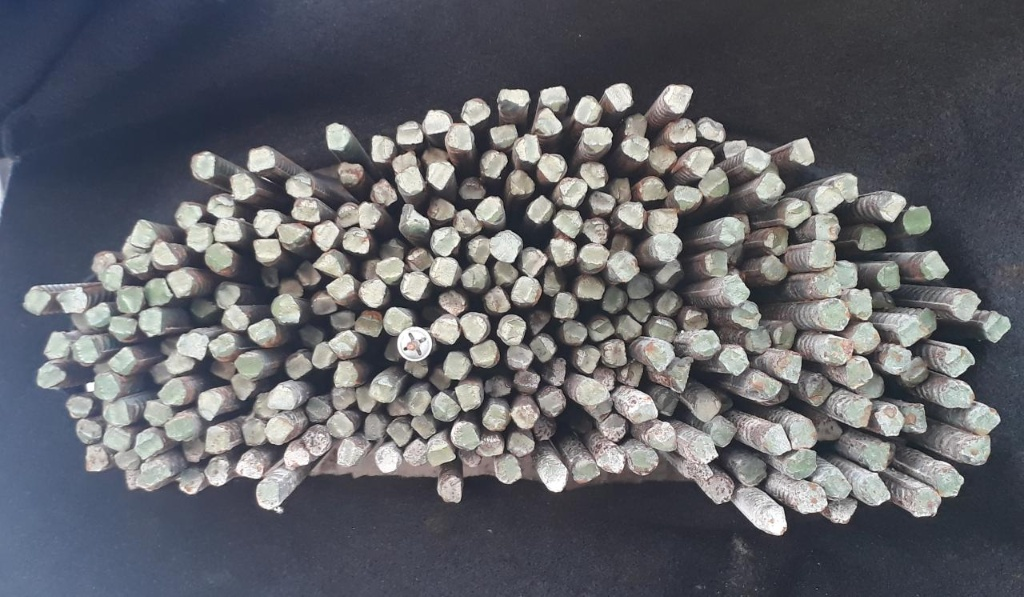dipstick: (608, 251, 641, 282), (491, 230, 522, 262), (663, 83, 694, 114), (823, 334, 854, 365), (819, 299, 850, 330), (496, 314, 526, 346), (667, 357, 695, 391), (204, 425, 234, 456), (511, 277, 542, 307), (577, 243, 609, 272), (581, 127, 613, 156), (851, 322, 880, 354), (383, 307, 413, 337), (460, 313, 490, 343), (400, 203, 430, 233), (572, 96, 602, 126), (431, 226, 460, 257), (786, 450, 817, 479), (876, 405, 905, 436), (971, 405, 1000, 436), (166, 414, 199, 441), (628, 394, 658, 423), (652, 233, 683, 261), (760, 505, 788, 536), (271, 294, 300, 323), (538, 388, 567, 417), (395, 166, 424, 195), (798, 483, 827, 512), (945, 347, 974, 376), (451, 421, 479, 451), (430, 258, 460, 286), (606, 82, 634, 112), (684, 147, 714, 175), (720, 346, 748, 376), (738, 457, 766, 487), (731, 302, 761, 330), (784, 198, 812, 228), (145, 277, 172, 308), (690, 434, 717, 465), (942, 381, 973, 408), (765, 422, 791, 454), (806, 373, 832, 405), (462, 97, 490, 126), (535, 109, 563, 138), (617, 202, 646, 230), (756, 174, 785, 202), (137, 465, 168, 491), (329, 333, 360, 359), (648, 208, 679, 234), (865, 473, 890, 505), (431, 393, 459, 421), (431, 317, 459, 345), (427, 162, 455, 190), (648, 145, 676, 173), (903, 206, 931, 234), (92, 373, 119, 402), (247, 145, 276, 172), (134, 432, 163, 459), (494, 455, 521, 484), (476, 197, 505, 224), (554, 209, 583, 236), (697, 116, 726, 143), (702, 167, 729, 196), (647, 341, 674, 370), (152, 241, 178, 271), (460, 265, 490, 291), (371, 177, 397, 207), (574, 275, 604, 301), (627, 449, 658, 474), (955, 292, 980, 323), (175, 334, 207, 358), (58, 287, 86, 314), (247, 319, 275, 346), (257, 481, 284, 509), (358, 279, 386, 306), (559, 178, 586, 206), (581, 162, 609, 189), (913, 489, 941, 516), (71, 336, 97, 365), (527, 195, 553, 224), (540, 153, 566, 182), (673, 184, 702, 210), (694, 330, 720, 359), (723, 276, 749, 305), (639, 176, 669, 201), (720, 218, 745, 248), (828, 499, 858, 524), (849, 288, 871, 322), (278, 225, 309, 249), (102, 425, 129, 452), (266, 417, 293, 444), (327, 411, 354, 438), (482, 151, 509, 178), (23, 286, 49, 314), (343, 228, 371, 254), (447, 124, 473, 152), (669, 119, 697, 145), (791, 421, 817, 449), (743, 147, 771, 173), (809, 241, 835, 269), (922, 251, 948, 279), (903, 356, 929, 384), (937, 469, 963, 497), (207, 243, 232, 272), (284, 355, 313, 380), (204, 457, 229, 486), (512, 371, 541, 396), (620, 138, 649, 163), (881, 193, 906, 222), (540, 85, 570, 109), (648, 315, 678, 339), (847, 398, 871, 428), (314, 220, 337, 251), (544, 462, 567, 493), (603, 337, 626, 368), (209, 334, 235, 361), (301, 428, 327, 455), (357, 311, 383, 338), (598, 447, 624, 474), (590, 315, 616, 342), (649, 425, 676, 451), (814, 270, 840, 297), (815, 214, 841, 241), (884, 345, 910, 372), (116, 285, 141, 313), (253, 238, 281, 263), (236, 453, 264, 478), (520, 247, 545, 275), (509, 168, 534, 196), (515, 135, 540, 163), (760, 255, 788, 280), (765, 228, 790, 256), (790, 138, 815, 166), (847, 359, 872, 387), (815, 188, 843, 213), (857, 225, 885, 250), (325, 122, 349, 151), (427, 442, 456, 466), (396, 121, 425, 145), (626, 275, 655, 299), (986, 312, 1010, 341), (967, 436, 991, 465), (496, 88, 529, 109), (291, 199, 321, 222), (578, 383, 609, 405), (103, 401, 129, 427), (109, 348, 135, 374), (338, 440, 364, 466), (401, 273, 427, 299), (657, 290, 683, 316), (562, 319, 588, 345), (89, 250, 114, 277), (327, 274, 354, 299), (446, 352, 471, 379), (483, 407, 510, 432), (551, 238, 576, 265), (169, 269, 193, 297), (214, 218, 242, 242), (603, 286, 627, 314), (656, 262, 684, 286), (694, 394, 718, 422), (865, 442, 889, 470), (235, 354, 264, 377), (143, 401, 172, 424), (175, 470, 204, 493), (571, 460, 600, 483), (656, 389, 679, 418), (781, 352, 803, 382), (230, 376, 256, 401), (334, 361, 359, 387), (486, 287, 511, 313), (589, 190, 614, 216), (711, 422, 737, 447), (191, 151, 215, 178), (222, 307, 249, 331), (160, 380, 187, 404), (422, 111, 449, 135), (315, 254, 343, 277), (271, 387, 299, 410), (439, 291, 467, 314), (703, 250, 726, 278), (774, 322, 797, 350), (878, 262, 901, 290), (905, 404, 928, 432), (371, 133, 392, 163), (215, 282, 240, 307), (601, 417, 626, 442), (584, 218, 609, 243), (746, 328, 771, 353), (901, 322, 926, 347), (240, 418, 264, 444), (456, 385, 482, 409), (407, 247, 433, 271), (44, 331, 67, 358), (37, 364, 64, 387), (65, 395, 92, 418), (206, 195, 233, 218), (198, 391, 221, 418), (284, 444, 307, 471), (377, 259, 404, 282), (459, 177, 486, 200), (824, 475, 851, 498), (284, 175, 312, 197), (176, 202, 201, 226), (231, 174, 255, 199), (254, 209, 278, 234), (471, 342, 495, 367), (839, 174, 859, 204), (188, 225, 211, 251), (306, 396, 329, 422), (331, 388, 357, 411), (511, 406, 537, 429), (507, 346, 533, 369), (429, 198, 455, 221), (533, 335, 556, 361), (577, 348, 600, 374), (139, 308, 161, 335), (133, 220, 155, 247), (337, 161, 364, 183), (439, 475, 461, 502), (490, 124, 517, 146), (754, 374, 781, 396), (710, 479, 734, 503), (76, 419, 101, 442), (375, 447, 398, 472), (509, 433, 534, 456), (554, 293, 577, 318), (817, 419, 842, 442), (683, 308, 709, 330), (109, 316, 136, 337), (407, 388, 428, 415), (530, 308, 551, 335), (837, 260, 858, 287), (84, 448, 107, 472), (624, 113, 647, 137), (87, 303, 109, 328), (167, 350, 193, 371), (493, 263, 519, 284), (405, 439, 425, 466), (391, 152, 418, 172), (547, 358, 566, 386), (621, 364, 644, 387), (618, 317, 642, 339), (360, 204, 381, 229), (469, 238, 490, 263), (255, 393, 275, 419), (485, 377, 511, 397), (919, 309, 939, 335), (364, 415, 383, 442), (377, 239, 404, 258), (298, 261, 319, 285), (456, 210, 480, 231), (630, 299, 652, 321), (862, 376, 884, 398), (337, 205, 358, 228), (412, 417, 435, 438), (422, 147, 450, 164), (388, 422, 409, 444), (543, 269, 560, 296), (124, 257, 149, 275), (190, 298, 215, 316), (371, 382, 393, 402), (329, 311, 352, 330), (405, 360, 428, 379), (312, 295, 336, 313), (313, 344, 331, 368), (614, 176, 630, 202), (686, 463, 712, 479), (104, 265, 121, 289), (479, 439, 503, 456), (385, 336, 401, 361), (534, 418, 553, 439), (597, 369, 615, 391), (872, 291, 894, 309), (611, 235, 634, 252), (722, 139, 746, 155), (123, 237, 142, 257), (591, 399, 612, 417), (300, 327, 322, 344), (150, 362, 169, 381), (184, 442, 203, 461), (432, 371, 450, 391), (358, 388, 373, 411), (72, 313, 89, 333), (115, 452, 139, 466), (460, 450, 480, 466), (280, 280, 301, 295), (387, 401, 406, 416), (363, 260, 378, 279)
